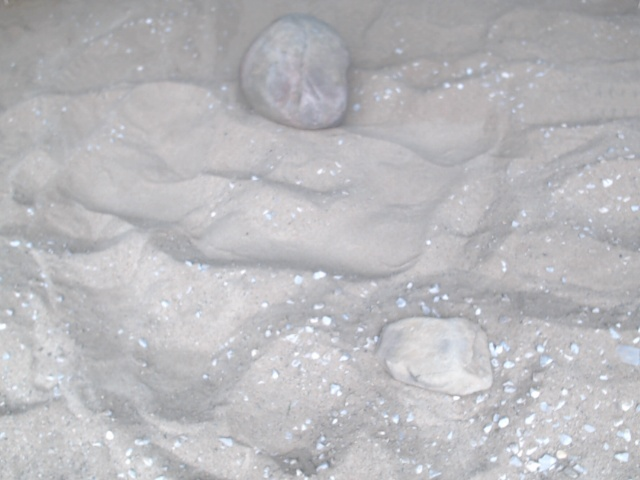rock: (232, 7, 359, 137), (367, 311, 499, 403)
